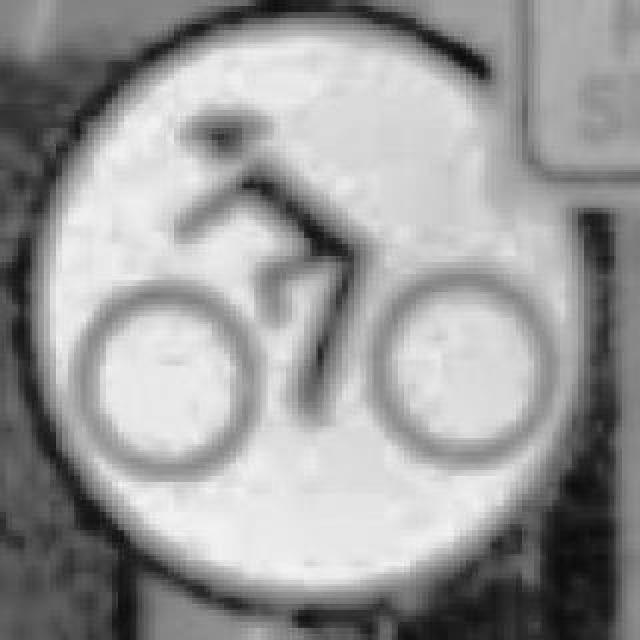bike lane: (20, 6, 598, 622)
